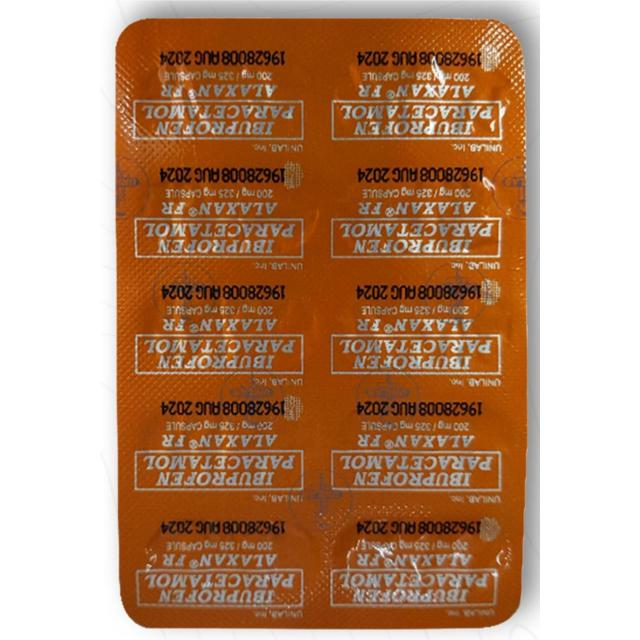blister: (110, 15, 532, 636)
